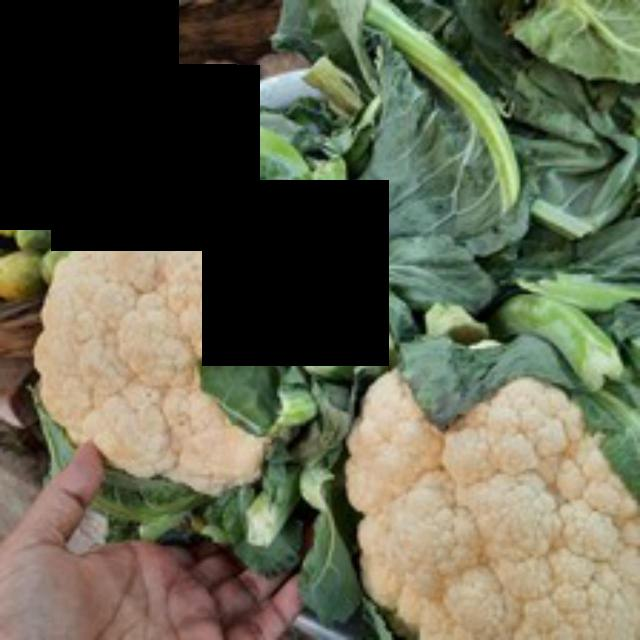cauliflower: (19, 183, 309, 496)
